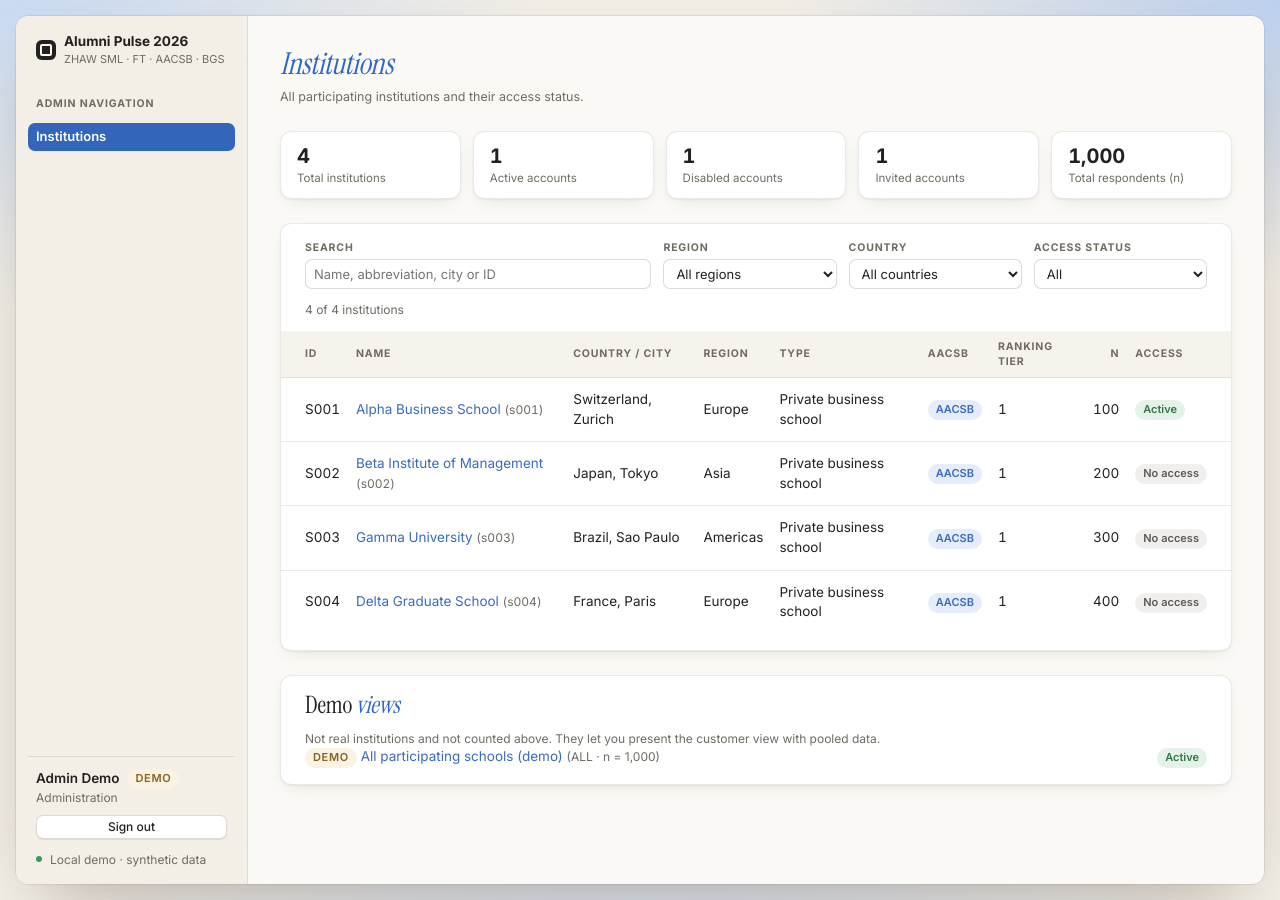
Admin-Liste › filtert per Suche
The image size is (1280, 900).
Expected: the link "Alpha Business School" is shown, [356,401,501,417]
Type "tokyo" into the search field labelled "Search".
click(478, 274); type("tokyo")  # box [305,259,651,289]
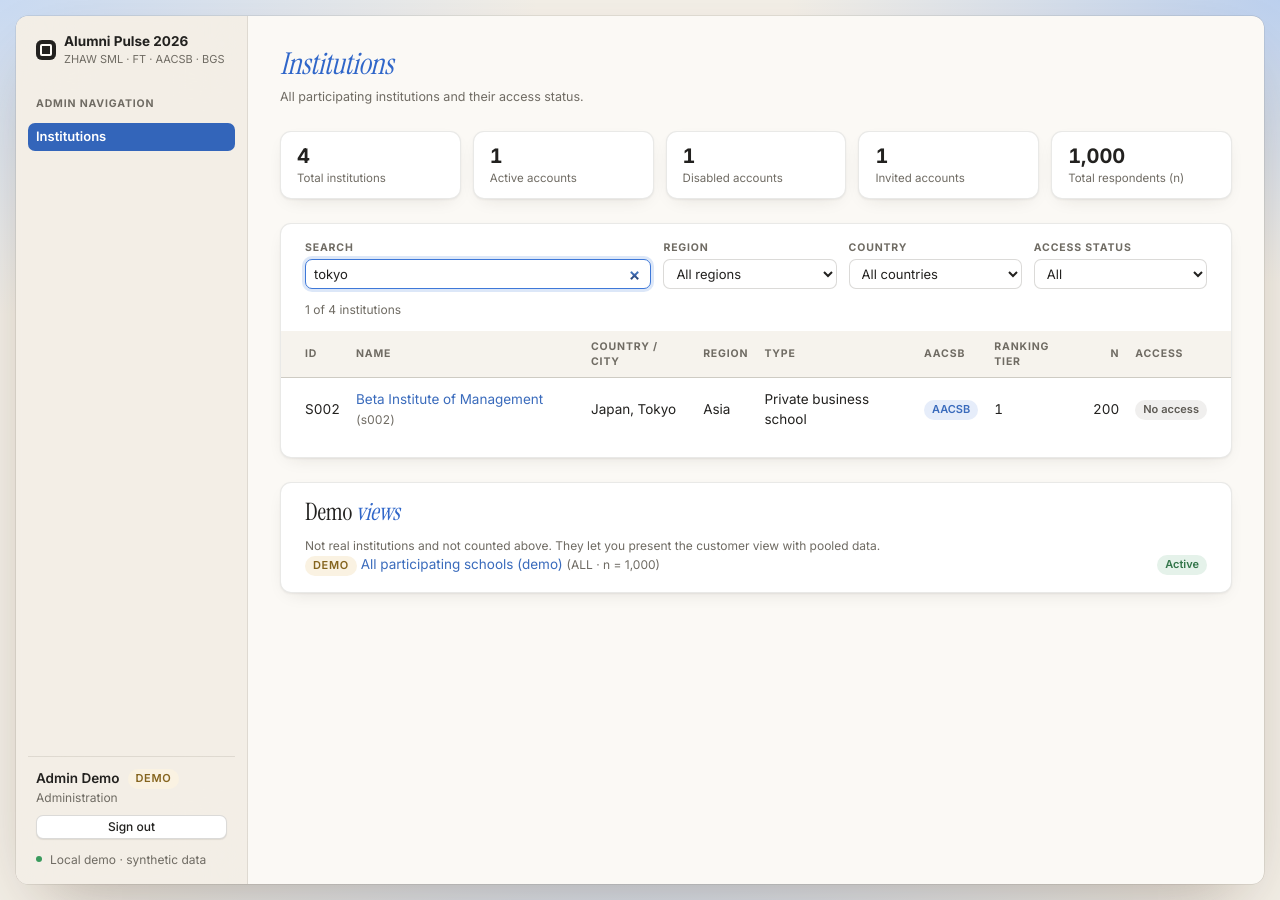
Expected: the link "Beta Institute of Management" is shown, [356,391,543,407]
Now the link "Alpha Business School" is gone
Now the message with test id "result-count" shows "1 of 4", box [305,302,401,317]
